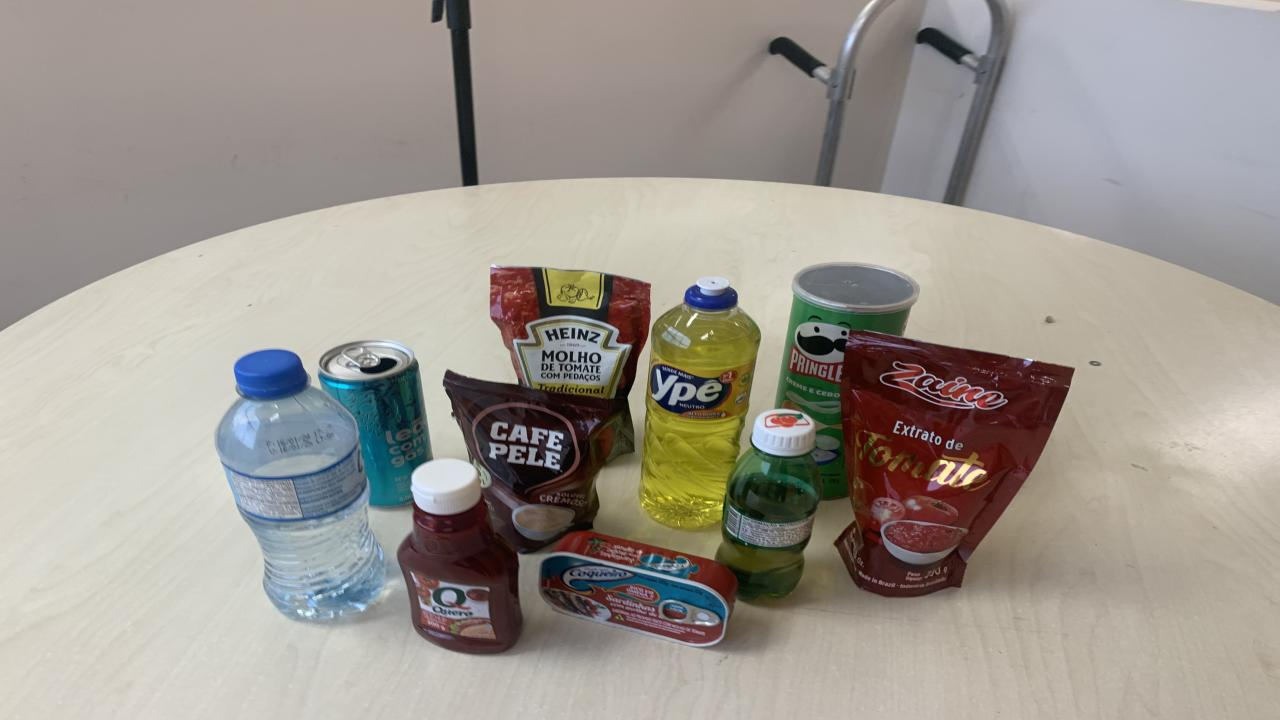Coffee-Pantry_Items: (442, 371, 632, 553)
Detergent-Cleanup_Items: (640, 278, 760, 529)
Guarana-Drinks: (715, 409, 822, 600)
Ketchup-Pantry_Items: (398, 459, 522, 654)
Pringles-Snacks: (775, 262, 920, 499)
Tea-Drinks: (318, 339, 432, 506)
Tomato_Sauce-Pantry_Items: (835, 332, 1072, 596), (490, 266, 650, 461)
Tuna_Can-Pantry_Items: (540, 531, 738, 647)
Water_Bottle-Drinks: (215, 351, 385, 619)
